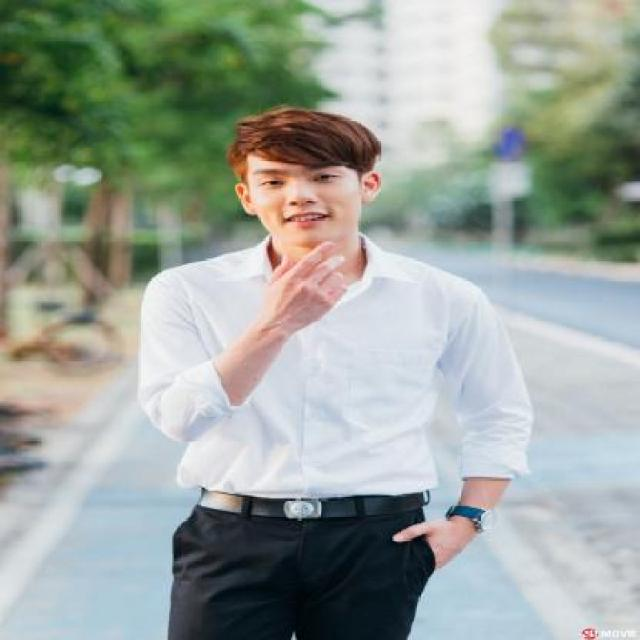sem_oculos: (226, 162, 389, 206)
